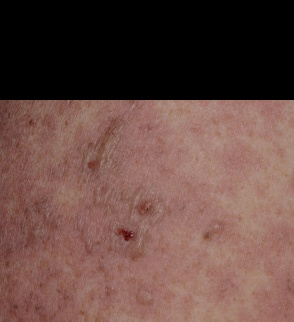SJS-TEN: (0, 102, 293, 320)
